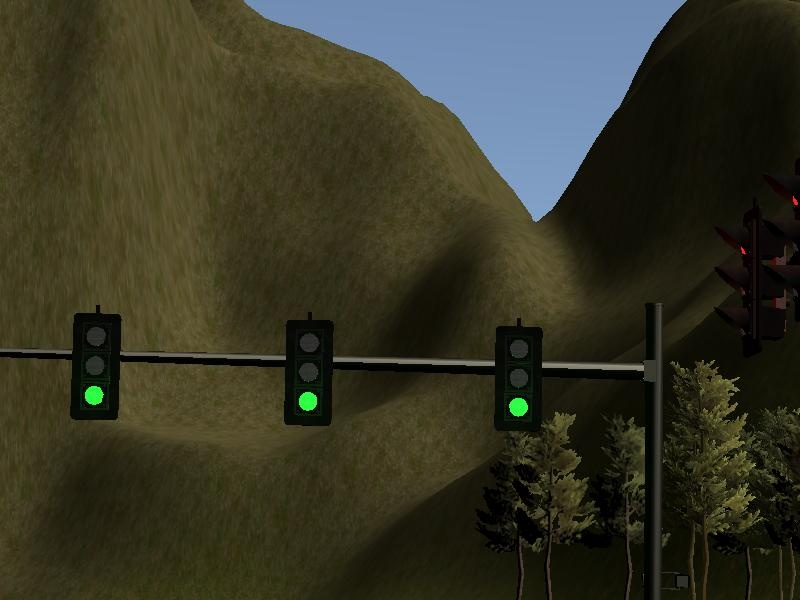GREEN: (71, 311, 122, 418), (283, 320, 332, 425), (494, 325, 543, 429)
